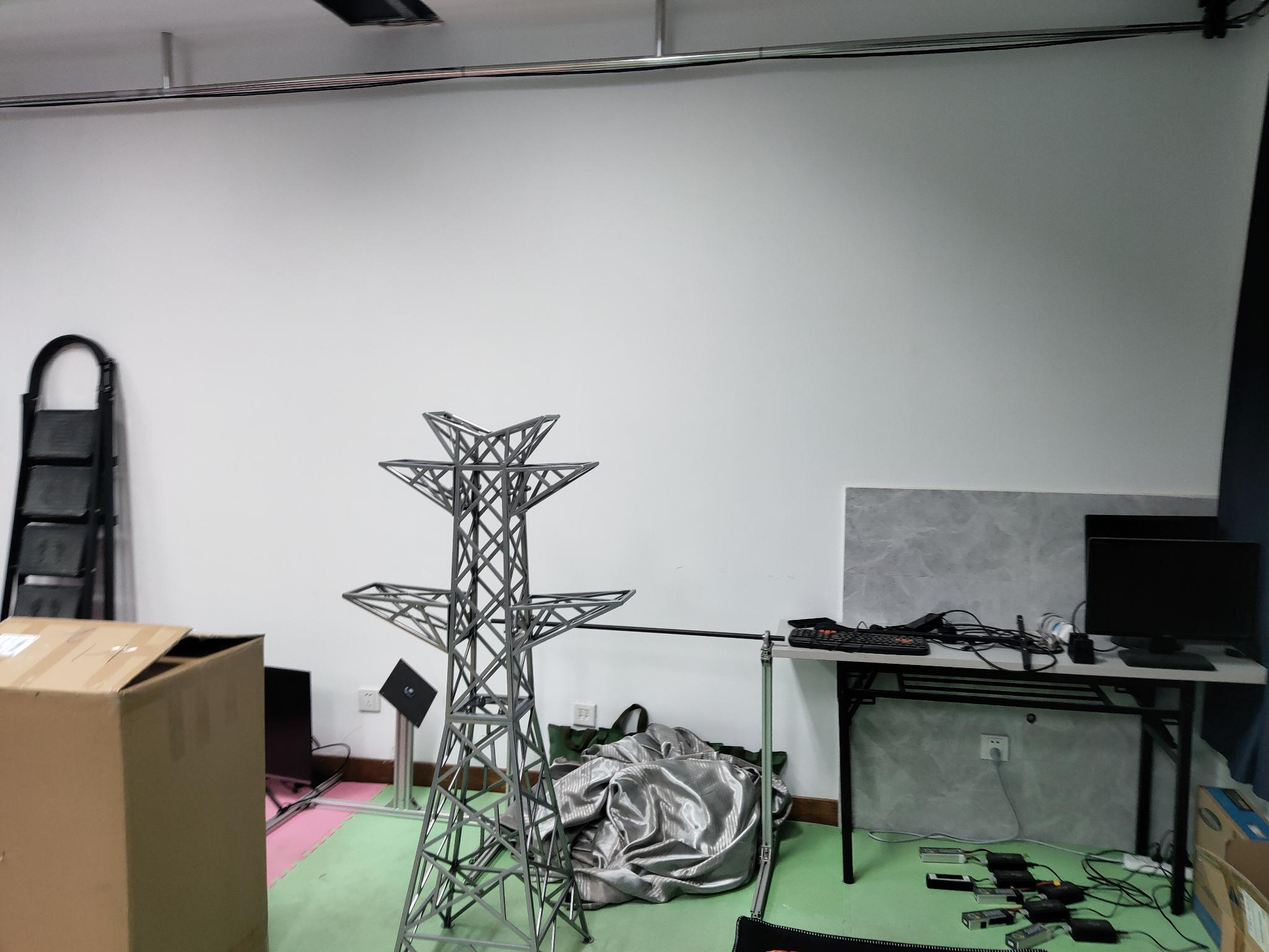tower: (343, 410, 631, 952)
